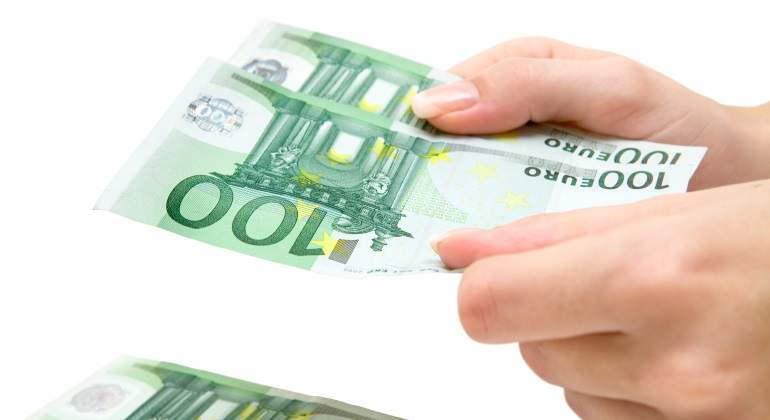billete: (88, 12, 711, 275), (16, 351, 417, 420)
